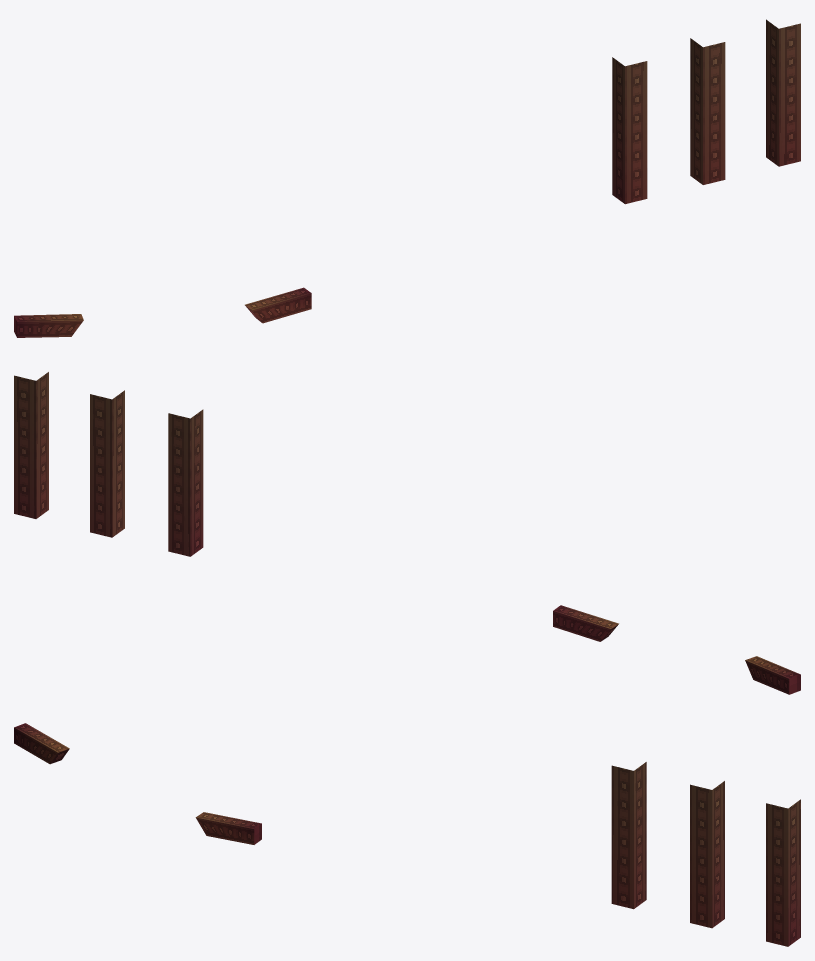
The model's file is level3.glb.
The picture shows the model from 3 angles, top to bottom: view 1: azimuth 30°, elevation 25°; view 2: azimuth 150°, elevation 25°; view 3: azimuth 330°, elevation 25°; orthographic projection.
Visible parts, largest first — view 1: level3; view 2: level3; view 3: level3.
Part boxes in pixels (x1,y1,x2,y2): level3: (14,19,800,337); level3: (14,372,800,694); level3: (14,723,800,946).
Size of what is drawn, in the model's own units: 19.72 by 3.6 by 1.53.
Materials: 1 (1 with a texture image).
